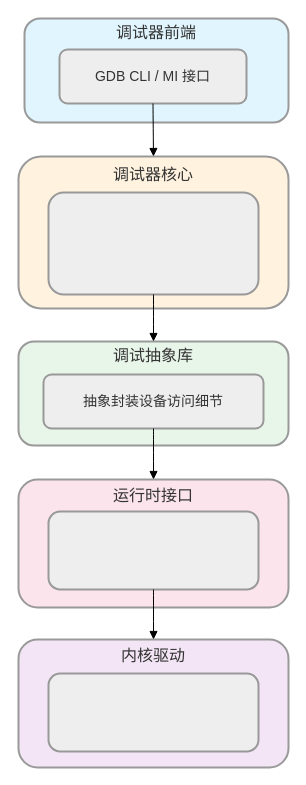
The diagram is 306 pixels wide and 785 high, and some of its shapes have lost their labels. Each missing label, with the centre of its shape:
代码对象加载、调试会话创建、执行控制: pixel 153 550
实现设备端指令实际调试操作: pixel 153 712
设备代码描述、SWAI 架构描述、命令解析、断点、单步等: pixel 153 243
